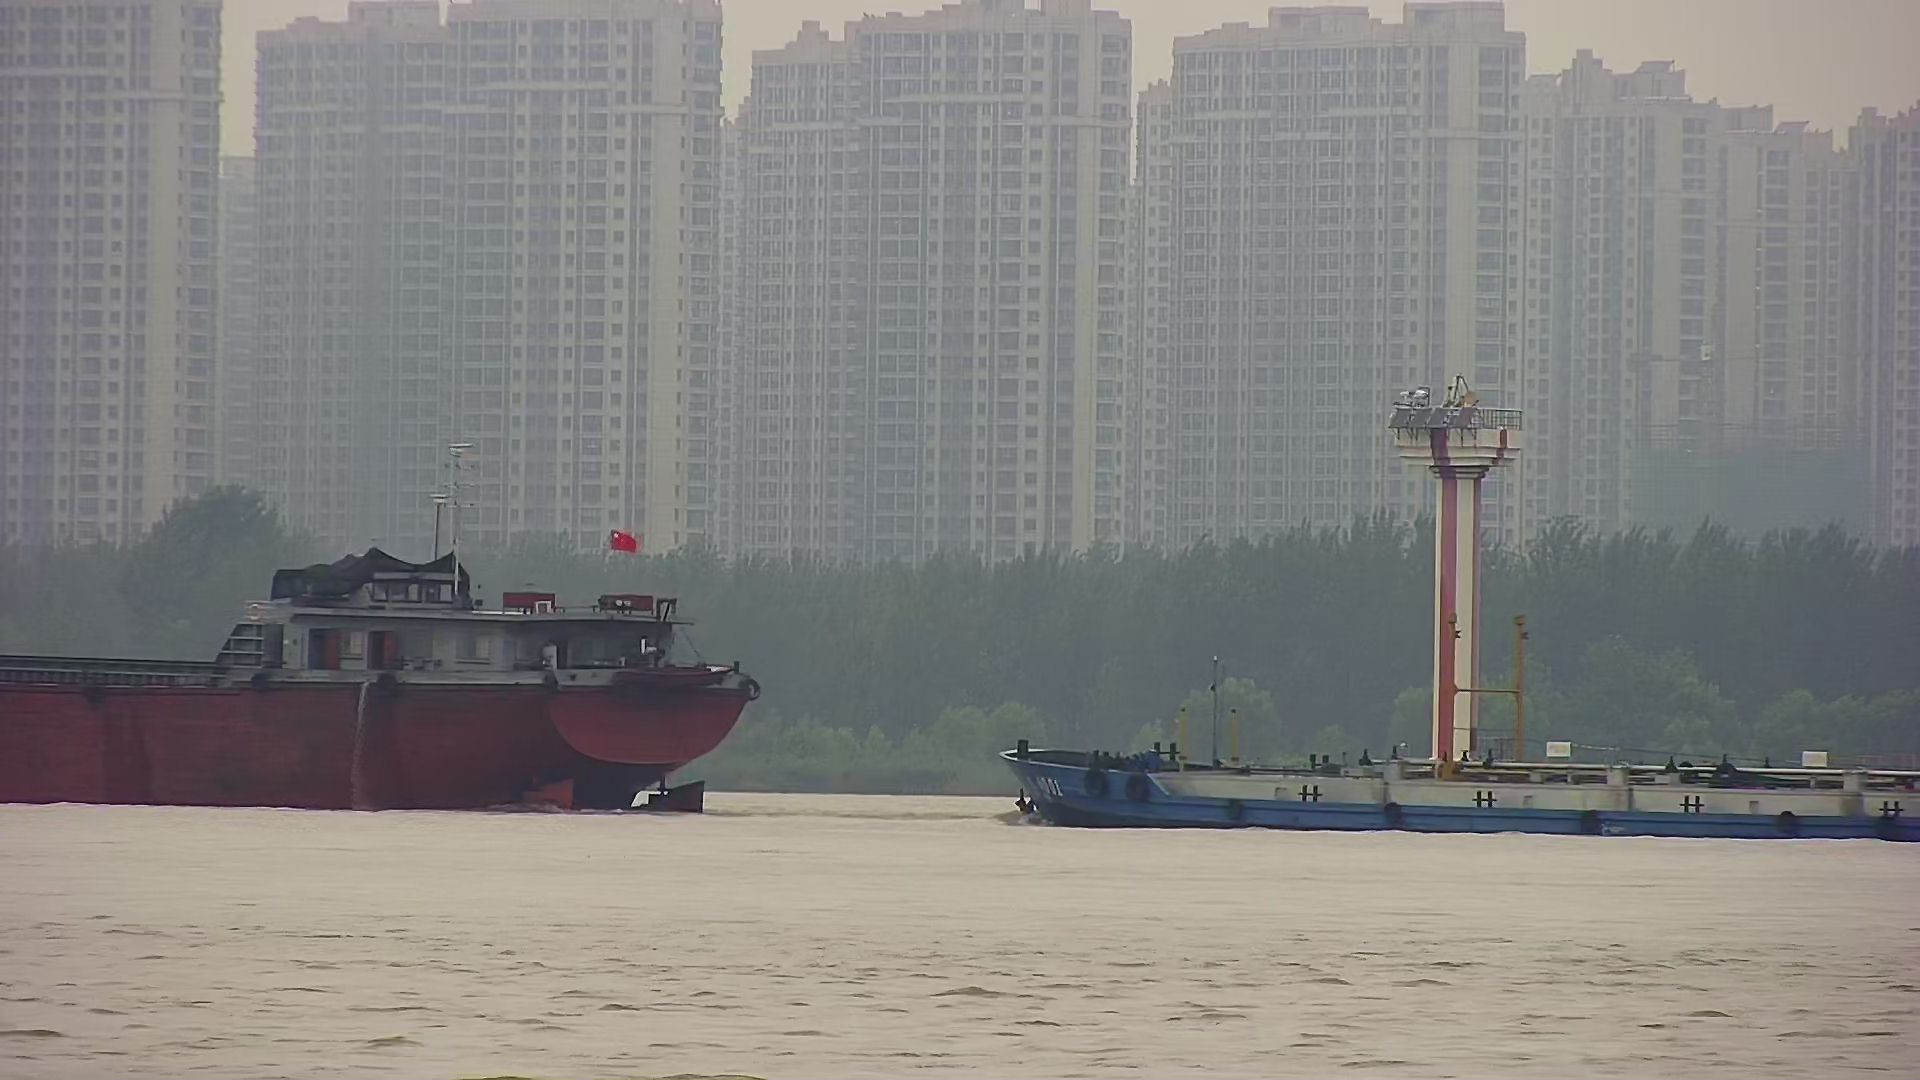platform: (1390, 380, 1528, 837)
ship: (1, 440, 771, 825), (1000, 607, 1920, 845)
